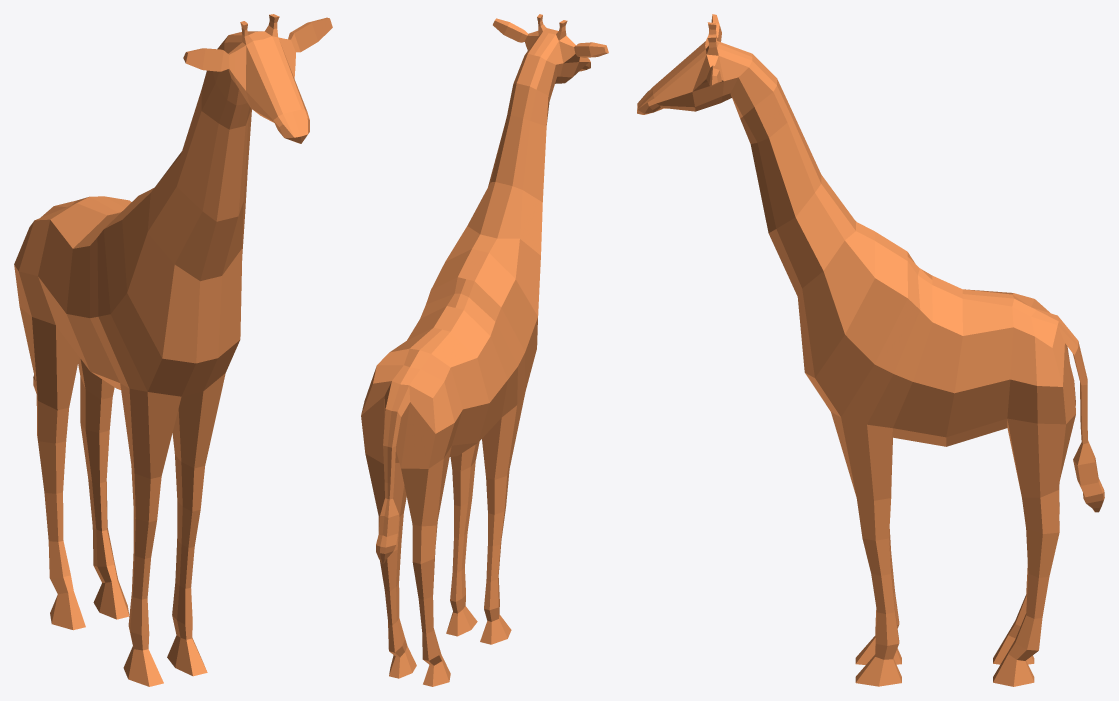
File: Giraffe.fbx
3 renders of one model, left to right at view 1: azimuth 30°, elevation 25°; view 2: azimuth 150°, elevation 25°; view 3: azimuth 270°, elevation 25°, orthographic. The views are drawn at different scales.
Visible parts, largest first — view 1: Giraffe; view 2: Giraffe; view 3: Giraffe.
Boxes of the visible parts, x1=… form: Giraffe: x1=14, y1=14, x2=332, y2=686; Giraffe: x1=361, y1=14, x2=608, y2=686; Giraffe: x1=637, y1=14, x2=1104, y2=686.
Size of the model in its own units: 34.26 by 160 by 106.
